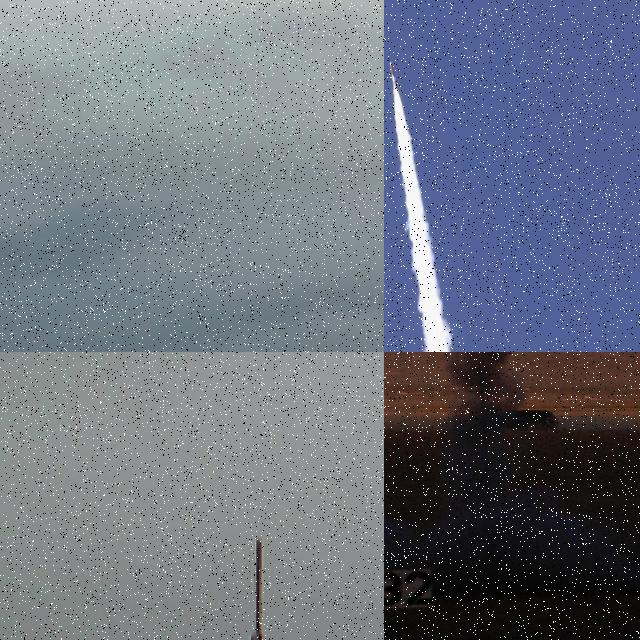Rocket: (249, 536, 265, 640), (389, 61, 398, 85)
